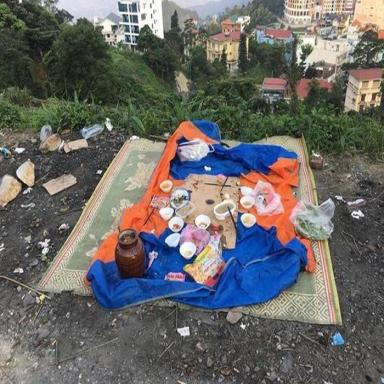plasticbag: (80, 113, 338, 331), (290, 196, 337, 246), (183, 242, 232, 289), (248, 176, 284, 220), (172, 135, 219, 165)
